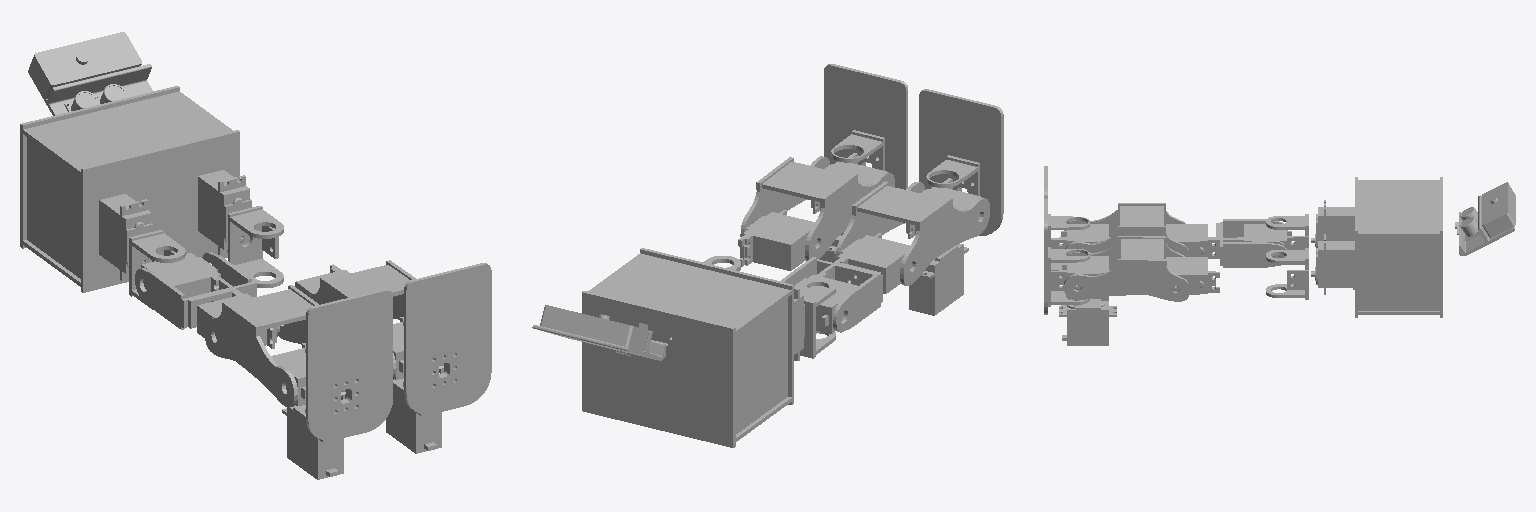
The robot description file, URDF, robot "Robot_visual":
<?xml version="1.0" encoding="utf-8"?>
<!-- This URDF was automatically created by SolidWorks to URDF Exporter! Originally created by [author] ([email redacted]) 
     Commit Version: 1.6.0-4-g7f85cfe  Build Version: 1.6.7995.38578
     For more information, please see http://wiki.ros.org/sw_urdf_exporter -->
<robot
  name="Robot_visual">
  <link
    name="base_link">
    <inertial>
      <origin
        xyz="0.0401810060046799 0.331786579487754 0.0352959668076187"
        rpy="0 0 0" />
      <mass
        value="0.150576513646478" />
      <inertia
        ixx="0.000108130795364864"
        ixy="-2.46379353815347E-20"
        ixz="7.96943004616914E-08"
        iyy="0.000192562652313604"
        iyz="-1.89390776232506E-19"
        izz="0.000181703429676107" />
    </inertial>
    <visual>
      <origin
        xyz="0 0 0"
        rpy="0 0 0" />
      <geometry>
        <mesh
          filename="package://Robot_visual/meshes/base_link.STL" />
      </geometry>
      <material
        name="">
        <color
          rgba="0.752941176470588 0.752941176470588 0.752941176470588 1" />
      </material>
    </visual>
    <collision>
      <origin
        xyz="0 0 0"
        rpy="0 0 0" />
      <geometry>
        <mesh
          filename="package://Robot_visual/meshes/base_link.STL" />
      </geometry>
    </collision>
  </link>
  <link
    name="hip_Link">
    <inertial>
      <origin
        xyz="0.000375231678648277 0.0220774190461577 0.00781561832095265"
        rpy="0 0 0" />
      <mass
        value="0.0406255317489471" />
      <inertia
        ixx="9.80786300584941E-06"
        ixy="-3.03552295829515E-22"
        ixz="-9.71909955561927E-10"
        iyy="6.43716459709308E-06"
        iyz="-5.23453333357324E-08"
        izz="6.33819448840706E-06" />
    </inertial>
    <visual>
      <origin
        xyz="0 0 0"
        rpy="0 0 0" />
      <geometry>
        <mesh
          filename="package://Robot_visual/meshes/hip_Link.STL" />
      </geometry>
      <material
        name="">
        <color
          rgba="0.752941176470588 0.752941176470588 0.752941176470588 1" />
      </material>
    </visual>
    <collision>
      <origin
        xyz="0 0 0"
        rpy="0 0 0" />
      <geometry>
        <mesh
          filename="package://Robot_visual/meshes/hip_Link.STL" />
      </geometry>
    </collision>
  </link>
  <joint
    name="hip_joint"
    type="revolute">
    <origin
      xyz="0.0026505 0.24245 0.025446"
      rpy="0 0 0" />
    <parent
      link="base_link" />
    <child
      link="hip_Link" />
    <axis
      xyz="0 1 0" />
    <limit
      lower="0"
      upper="3.14"
      effort="0.505"
      velocity="8.72" />
  </joint>
  <link
    name="thigh_Link">
    <inertial>
      <origin
        xyz="0.0253254685287808 -0.0180431075131695 7.81312186782721E-06"
        rpy="0 0 0" />
      <mass
        value="0.0474577407114944" />
      <inertia
        ixx="8.66835175137434E-06"
        ixy="-5.23453333357292E-08"
        ixz="-1.06872484518158E-10"
        iyy="6.98674583183773E-06"
        iyz="8.25183020102476E-11"
        izz="1.22212930303417E-05" />
    </inertial>
    <visual>
      <origin
        xyz="0 0 0"
        rpy="0 0 0" />
      <geometry>
        <mesh
          filename="package://Robot_visual/meshes/thigh_Link.STL" />
      </geometry>
      <material
        name="">
        <color
          rgba="0.752941176470588 0.752941176470588 0.752941176470588 1" />
      </material>
    </visual>
    <collision>
      <origin
        xyz="0 0 0"
        rpy="0 0 0" />
      <geometry>
        <mesh
          filename="package://Robot_visual/meshes/thigh_Link.STL" />
      </geometry>
    </collision>
  </link>
  <joint
    name="thigh_joint"
    type="revolute">
    <origin
      xyz="-0.019363 -0.02734 1.8014E-05"
      rpy="0 0 0" />
    <parent
      link="hip_Link" />
    <child
      link="thigh_Link" />
    <axis
      xyz="1 0 0" />
    <limit
      lower="0"
      upper="1.047"
      effort="0.505"
      velocity="8.72" />
  </joint>
  <link
    name="leg_Link">
    <inertial>
      <origin
        xyz="-0.0285390710342944 -0.0126064105119781 0.00485979795787559"
        rpy="0 0 0" />
      <mass
        value="0.0582940636416205" />
      <inertia
        ixx="2.72770431978539E-05"
        ixy="5.23415177903817E-08"
        ixz="2.01305685819592E-13"
        iyy="8.82495379340482E-06"
        iyz="-9.64680350901821E-07"
        izz="2.9839846600908E-05" />
    </inertial>
    <visual>
      <origin
        xyz="0 0 0"
        rpy="0 0 0" />
      <geometry>
        <mesh
          filename="package://Robot_visual/meshes/leg_Link.STL" />
      </geometry>
      <material
        name="">
        <color
          rgba="0.752941176470588 0.752941176470588 0.752941176470588 1" />
      </material>
    </visual>
    <collision>
      <origin
        xyz="0 0 0"
        rpy="0 0 0" />
      <geometry>
        <mesh
          filename="package://Robot_visual/meshes/leg_Link.STL" />
      </geometry>
    </collision>
  </link>
  <joint
    name="leg_joint"
    type="revolute">
    <origin
      xyz="0.054 -0.09411 3.5486E-05"
      rpy="0 0 0" />
    <parent
      link="thigh_Link" />
    <child
      link="leg_Link" />
    <axis
      xyz="1 0 0" />
    <limit
      lower="0"
      upper="1.047"
      effort="0.505"
      velocity="8.72" />
  </joint>
  <link
    name="foot1Link">
    <inertial>
      <origin
        xyz="-0.0264476634523562 -0.00503739187076357 0.00815571818852375"
        rpy="0 0 0" />
      <mass
        value="0.0535012177122182" />
      <inertia
        ixx="2.06588045150592E-05"
        ixy="5.19624692095533E-08"
        ixz="2.99656855482002E-08"
        iyy="2.67845482317156E-05"
        iyz="3.96121664948847E-22"
        izz="1.54972909145E-05" />
    </inertial>
    <visual>
      <origin
        xyz="0 0 0"
        rpy="0 0 0" />
      <geometry>
        <mesh
          filename="package://Robot_visual/meshes/foot1Link.STL" />
      </geometry>
      <material
        name="">
        <color
          rgba="0.752941176470588 0.752941176470588 0.752941176470588 1" />
      </material>
    </visual>
    <collision>
      <origin
        xyz="0 0 0"
        rpy="0 0 0" />
      <geometry>
        <mesh
          filename="package://Robot_visual/meshes/foot1Link.STL" />
      </geometry>
    </collision>
  </link>
  <joint
    name="foot1_joint"
    type="revolute">
    <origin
      xyz="0 -0.093 0"
      rpy="0 0 0" />
    <parent
      link="leg_Link" />
    <child
      link="foot1Link" />
    <axis
      xyz="1 0 0" />
    <limit
      lower="0"
      upper="0.523"
      effort="0.505"
      velocity="8.72" />
  </joint>
  <link
    name="foot2_Link">
    <inertial>
      <origin
        xyz="-2.5853164262955E-05 0.00566057052955886 -0.0216512687907475"
        rpy="0 0 0" />
      <mass
        value="0.0372088933681426" />
      <inertia
        ixx="9.6735685377817E-06"
        ixy="-3.82864126172109E-10"
        ixz="-4.26964685275401E-21"
        iyy="6.36833977773333E-06"
        iyz="5.2345333335728E-08"
        izz="5.99785017877914E-06" />
    </inertial>
    <visual>
      <origin
        xyz="0 0 0"
        rpy="0 0 0" />
      <geometry>
        <mesh
          filename="package://Robot_visual/meshes/foot2_Link.STL" />
      </geometry>
      <material
        name="">
        <color
          rgba="0.752941176470588 0.752941176470588 0.752941176470588 1" />
      </material>
    </visual>
    <collision>
      <origin
        xyz="0 0 0"
        rpy="0 0 0" />
      <geometry>
        <mesh
          filename="package://Robot_visual/meshes/foot2_Link.STL" />
      </geometry>
    </collision>
  </link>
  <joint
    name="foot2_joint"
    type="revolute">
    <origin
      xyz="-0.024645 -0.093 -0.0205"
      rpy="0 0 0" />
    <parent
      link="leg_Link" />
    <child
      link="foot2_Link" />
    <axis
      xyz="0 0 1" />
    <limit
      lower="0"
      upper="3.14"
      effort="0.505"
      velocity="8.72" />
  </joint>
  <link
    name="hip2_Link">
    <inertial>
      <origin
        xyz="0.000375231679004905 0.019077419046091 0.00781561832095055"
        rpy="0 0 0" />
      <mass
        value="0.0812510634978942" />
      <inertia
        ixx="1.96157260116988E-05"
        ixy="-1.23915022988868E-21"
        ixz="-1.94381991112374E-09"
        iyy="1.28743291941862E-05"
        iyz="-1.04690666671465E-07"
        izz="1.26763889768141E-05" />
    </inertial>
    <visual>
      <origin
        xyz="0 0 0"
        rpy="0 0 0" />
      <geometry>
        <mesh
          filename="package://Robot_visual/meshes/hip2_Link.STL" />
      </geometry>
      <material
        name="">
        <color
          rgba="0.752941176470588 0.752941176470588 0.752941176470588 1" />
      </material>
    </visual>
    <collision>
      <origin
        xyz="0 0 0"
        rpy="0 0 0" />
      <geometry>
        <mesh
          filename="package://Robot_visual/meshes/hip2_Link.STL" />
      </geometry>
    </collision>
  </link>
  <joint
    name="hip2_joint"
    type="revolute">
    <origin
      xyz="0.077751 0.24545 0.025446"
      rpy="0 0 0" />
    <parent
      link="base_link" />
    <child
      link="hip2_Link" />
    <axis
      xyz="0 1 0" />
    <limit
      lower="0"
      upper="3.142"
      effort="0.505"
      velocity="8.72" />
  </joint>
  <link
    name="thigh2_Link">
    <inertial>
      <origin
        xyz="-0.0342620709334726 0.049417419046091 0.00779760382796379"
        rpy="0 0 0" />
      <mass
        value="0.0812510634978942" />
      <inertia
        ixx="1.96157260116988E-05"
        ixy="-1.22807918596397E-21"
        ixz="-1.94381991112374E-09"
        iyy="1.28743291941862E-05"
        iyz="-1.04690666671465E-07"
        izz="1.26763889768141E-05" />
    </inertial>
    <visual>
      <origin
        xyz="0 0 0"
        rpy="0 0 0" />
      <geometry>
        <mesh
          filename="package://Robot_visual/meshes/thigh2_Link.STL" />
      </geometry>
      <material
        name="">
        <color
          rgba="0.752941176470588 0.752941176470588 0.752941176470588 1" />
      </material>
    </visual>
    <collision>
      <origin
        xyz="0 0 0"
        rpy="0 0 0" />
      <geometry>
        <mesh
          filename="package://Robot_visual/meshes/thigh2_Link.STL" />
      </geometry>
    </collision>
  </link>
  <joint
    name="thigh2_joint"
    type="revolute">
    <origin
      xyz="0.034637 -0.03034 1.8014E-05"
      rpy="0 0 0" />
    <parent
      link="hip2_Link" />
    <child
      link="thigh2_Link" />
    <axis
      xyz="1 0 0" />
    <limit
      lower="0"
      upper="1.04"
      effort="0.505"
      velocity="8.72" />
  </joint>
  <link
    name="leg2_Link">
    <inertial>
      <origin
        xyz="-0.0285165850182353 -0.0110288911479769 0.00388806846756112"
        rpy="0 0 0" />
      <mass
        value="0.111277328855263" />
      <inertia
        ixx="5.37565328428597E-05"
        ixy="1.04683042764819E-07"
        ixz="5.3336212480671E-13"
        iyy="1.62595313750558E-05"
        iyz="-1.34271492398453E-06"
        izz="5.75380896642682E-05" />
    </inertial>
    <visual>
      <origin
        xyz="0 0 0"
        rpy="0 0 0" />
      <geometry>
        <mesh
          filename="package://Robot_visual/meshes/leg2_Link.STL" />
      </geometry>
      <material
        name="">
        <color
          rgba="0.752941176470588 0.752941176470588 0.752941176470588 1" />
      </material>
    </visual>
    <collision>
      <origin
        xyz="0 0 0"
        rpy="0 0 0" />
      <geometry>
        <mesh
          filename="package://Robot_visual/meshes/leg2_Link.STL" />
      </geometry>
    </collision>
  </link>
  <joint
    name="leg2_joint"
    type="revolute">
    <origin
      xyz="0 -0.09411 3.5486E-05"
      rpy="0 0 0" />
    <parent
      link="thigh2_Link" />
    <child
      link="leg2_Link" />
    <axis
      xyz="-1 0 0" />
    <limit
      lower="0"
      upper="0.523"
      effort="0.505"
      velocity="8.72" />
  </joint>
  <link
    name="foot3_Link">
    <inertial>
      <origin
        xyz="-0.026447663451981 -0.00503739187082926 0.0081557181885232"
        rpy="0 0 0" />
      <mass
        value="0.0535012177122182" />
      <inertia
        ixx="2.06588045150592E-05"
        ixy="5.19624692095534E-08"
        ixz="2.99656855482004E-08"
        iyy="2.67845482317156E-05"
        iyz="4.06824048578485E-22"
        izz="1.54972909145E-05" />
    </inertial>
    <visual>
      <origin
        xyz="0 0 0"
        rpy="0 0 0" />
      <geometry>
        <mesh
          filename="package://Robot_visual/meshes/foot3_Link.STL" />
      </geometry>
      <material
        name="">
        <color
          rgba="0.752941176470588 0.752941176470588 0.752941176470588 1" />
      </material>
    </visual>
    <collision>
      <origin
        xyz="0 0 0"
        rpy="0 0 0" />
      <geometry>
        <mesh
          filename="package://Robot_visual/meshes/foot3_Link.STL" />
      </geometry>
    </collision>
  </link>
  <joint
    name="foot3_joint"
    type="revolute">
    <origin
      xyz="0 -0.092986 0.001587"
      rpy="0 0 0" />
    <parent
      link="leg2_Link" />
    <child
      link="foot3_Link" />
    <axis
      xyz="1 0 0" />
    <limit
      lower="0"
      upper="0.523"
      effort="0.505"
      velocity="8.72" />
  </joint>
  <link
    name="foot4_Link">
    <inertial>
      <origin
        xyz="-2.58531638877152E-05 0.00566057052949243 -0.0216512687907491"
        rpy="0 0 0" />
      <mass
        value="0.0372088933681426" />
      <inertia
        ixx="9.6735685377817E-06"
        ixy="-3.82864126180089E-10"
        ixz="-8.28829927605747E-22"
        iyy="6.36833977773332E-06"
        iyz="5.23453333357268E-08"
        izz="5.99785017877913E-06" />
    </inertial>
    <visual>
      <origin
        xyz="0 0 0"
        rpy="0 0 0" />
      <geometry>
        <mesh
          filename="package://Robot_visual/meshes/foot4_Link.STL" />
      </geometry>
      <material
        name="">
        <color
          rgba="0.752941176470588 0.752941176470588 0.752941176470588 1" />
      </material>
    </visual>
    <collision>
      <origin
        xyz="0 0 0"
        rpy="0 0 0" />
      <geometry>
        <mesh
          filename="package://Robot_visual/meshes/foot4_Link.STL" />
      </geometry>
    </collision>
  </link>
  <joint
    name="foot4_joint"
    type="revolute">
    <origin
      xyz="-0.024645 -0.092986 -0.018913"
      rpy="0 0 0" />
    <parent
      link="leg2_Link" />
    <child
      link="foot4_Link" />
    <axis
      xyz="0 0 -1" />
    <limit
      lower="0"
      upper="3.14"
      effort="0.505"
      velocity="8.72" />
  </joint>
  <link
    name="neck_Link">
    <inertial>
      <origin
        xyz="-0.0114350675543291 0.0298274611173384 -0.0147167215824987"
        rpy="0 0 0" />
      <mass
        value="0.0535113637048835" />
      <inertia
        ixx="7.73004737504562E-06"
        ixy="-1.32510352644368E-08"
        ixz="1.90610291175162E-08"
        iyy="2.33892662961815E-05"
        iyz="2.34093466656608E-06"
        izz="2.68027256486278E-05" />
    </inertial>
    <visual>
      <origin
        xyz="0 0 0"
        rpy="0 0 0" />
      <geometry>
        <mesh
          filename="package://Robot_visual/meshes/neck_Link.STL" />
      </geometry>
      <material
        name="">
        <color
          rgba="0.752941176470588 0.752941176470588 0.752941176470588 1" />
      </material>
    </visual>
    <collision>
      <origin
        xyz="0 0 0"
        rpy="0 0 0" />
      <geometry>
        <mesh
          filename="package://Robot_visual/meshes/neck_Link.STL" />
      </geometry>
    </collision>
  </link>
  <joint
    name="neck_joint"
    type="revolute">
    <origin
      xyz="0.048815 0.38675 0.061874"
      rpy="3.1416 0 3.1416" />
    <parent
      link="base_link" />
    <child
      link="neck_Link" />
    <axis
      xyz="0 -1 0" />
    <limit
      lower="0"
      upper="3.14"
      effort="0.505"
      velocity="8.72" />
  </joint>
</robot>

--- What the picture shows (computed from the rendered views, not written in the file) ---
3 views of the same robot in one strip: view 1: azimuth 30°, elevation 25°; view 2: azimuth 150°, elevation 25°; view 3: azimuth 270°, elevation 25° (orthographic).
Robot: Robot_visual — 12 links, 11 joints (11 revolute); root link base_link; default pose: every joint at zero.
Visible links, largest first — view 1: base_link, foot1Link, foot3_Link, leg_Link, neck_Link, thigh_Link, hip_Link, thigh2_Link, leg2_Link, foot2_Link, foot4_Link, hip2_Link; view 2: base_link, leg2_Link, leg_Link, foot1Link, foot3_Link, thigh_Link, neck_Link, foot2_Link, hip_Link, foot4_Link; view 3: base_link, leg2_Link, leg_Link, thigh_Link, hip2_Link, neck_Link, foot4_Link, hip_Link, foot3_Link, foot1Link.
Link boxes in pixels (left/top/right/bottom): base_link: left=20, top=86, right=239, bottom=292; foot1Link: left=271, top=289, right=392, bottom=440; foot3_Link: left=393, top=263, right=491, bottom=414; leg_Link: left=197, top=285, right=318, bottom=407; neck_Link: left=28, top=32, right=152, bottom=115; thigh_Link: left=135, top=252, right=256, bottom=329; hip_Link: left=99, top=194, right=185, bottom=309; thigh2_Link: left=198, top=170, right=283, bottom=287; leg2_Link: left=295, top=260, right=415, bottom=379; foot2_Link: left=282, top=380, right=355, bottom=479; foot4_Link: left=386, top=353, right=454, bottom=453; hip2_Link: left=201, top=173, right=283, bottom=286; base_link: left=582, top=248, right=793, bottom=447; leg2_Link: left=738, top=156, right=894, bottom=270; leg_Link: left=835, top=181, right=989, bottom=293; foot1Link: left=906, top=89, right=1003, bottom=238; foot3_Link: left=811, top=64, right=907, bottom=213; thigh_Link: left=781, top=257, right=882, bottom=333; neck_Link: left=532, top=305, right=665, bottom=360; foot2_Link: left=909, top=155, right=979, bottom=315; hip_Link: left=794, top=279, right=835, bottom=360; foot4_Link: left=819, top=130, right=884, bottom=262; base_link: left=1355, top=177, right=1442, bottom=317; leg2_Link: left=1064, top=236, right=1219, bottom=301; leg_Link: left=1064, top=203, right=1215, bottom=256; thigh_Link: left=1208, top=219, right=1293, bottom=267; hip2_Link: left=1266, top=235, right=1354, bottom=299; neck_Link: left=1455, top=182, right=1515, bottom=255; foot4_Link: left=1048, top=247, right=1116, bottom=345; hip_Link: left=1266, top=200, right=1354, bottom=264; foot3_Link: left=1044, top=198, right=1109, bottom=314; foot1Link: left=1044, top=166, right=1110, bottom=248.
Bounding box of the posed robot: 0.1433 × 0.443 × 0.1389 m (x, y, z).
12 mesh visuals loaded from 12 distinct referenced files (12 binary STL).